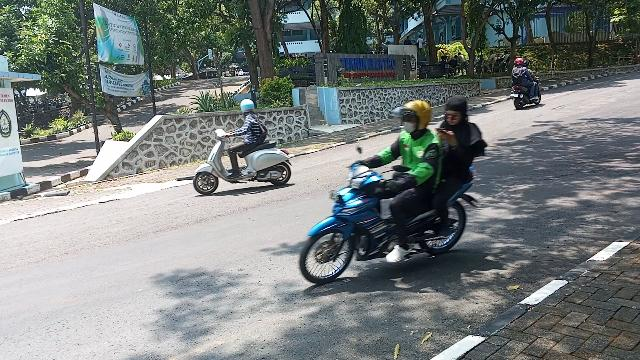helm: (392, 102, 432, 133), (241, 99, 256, 113), (516, 59, 525, 66), (524, 62, 530, 69)
motor: (301, 166, 479, 287), (196, 131, 293, 196), (512, 84, 542, 108)
non-helm: (447, 97, 468, 126)
